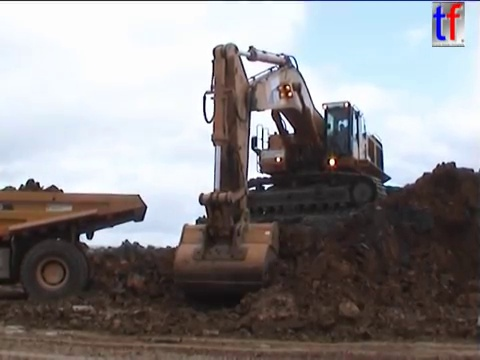excavator: (170, 40, 397, 303)
truck: (1, 186, 151, 311)
